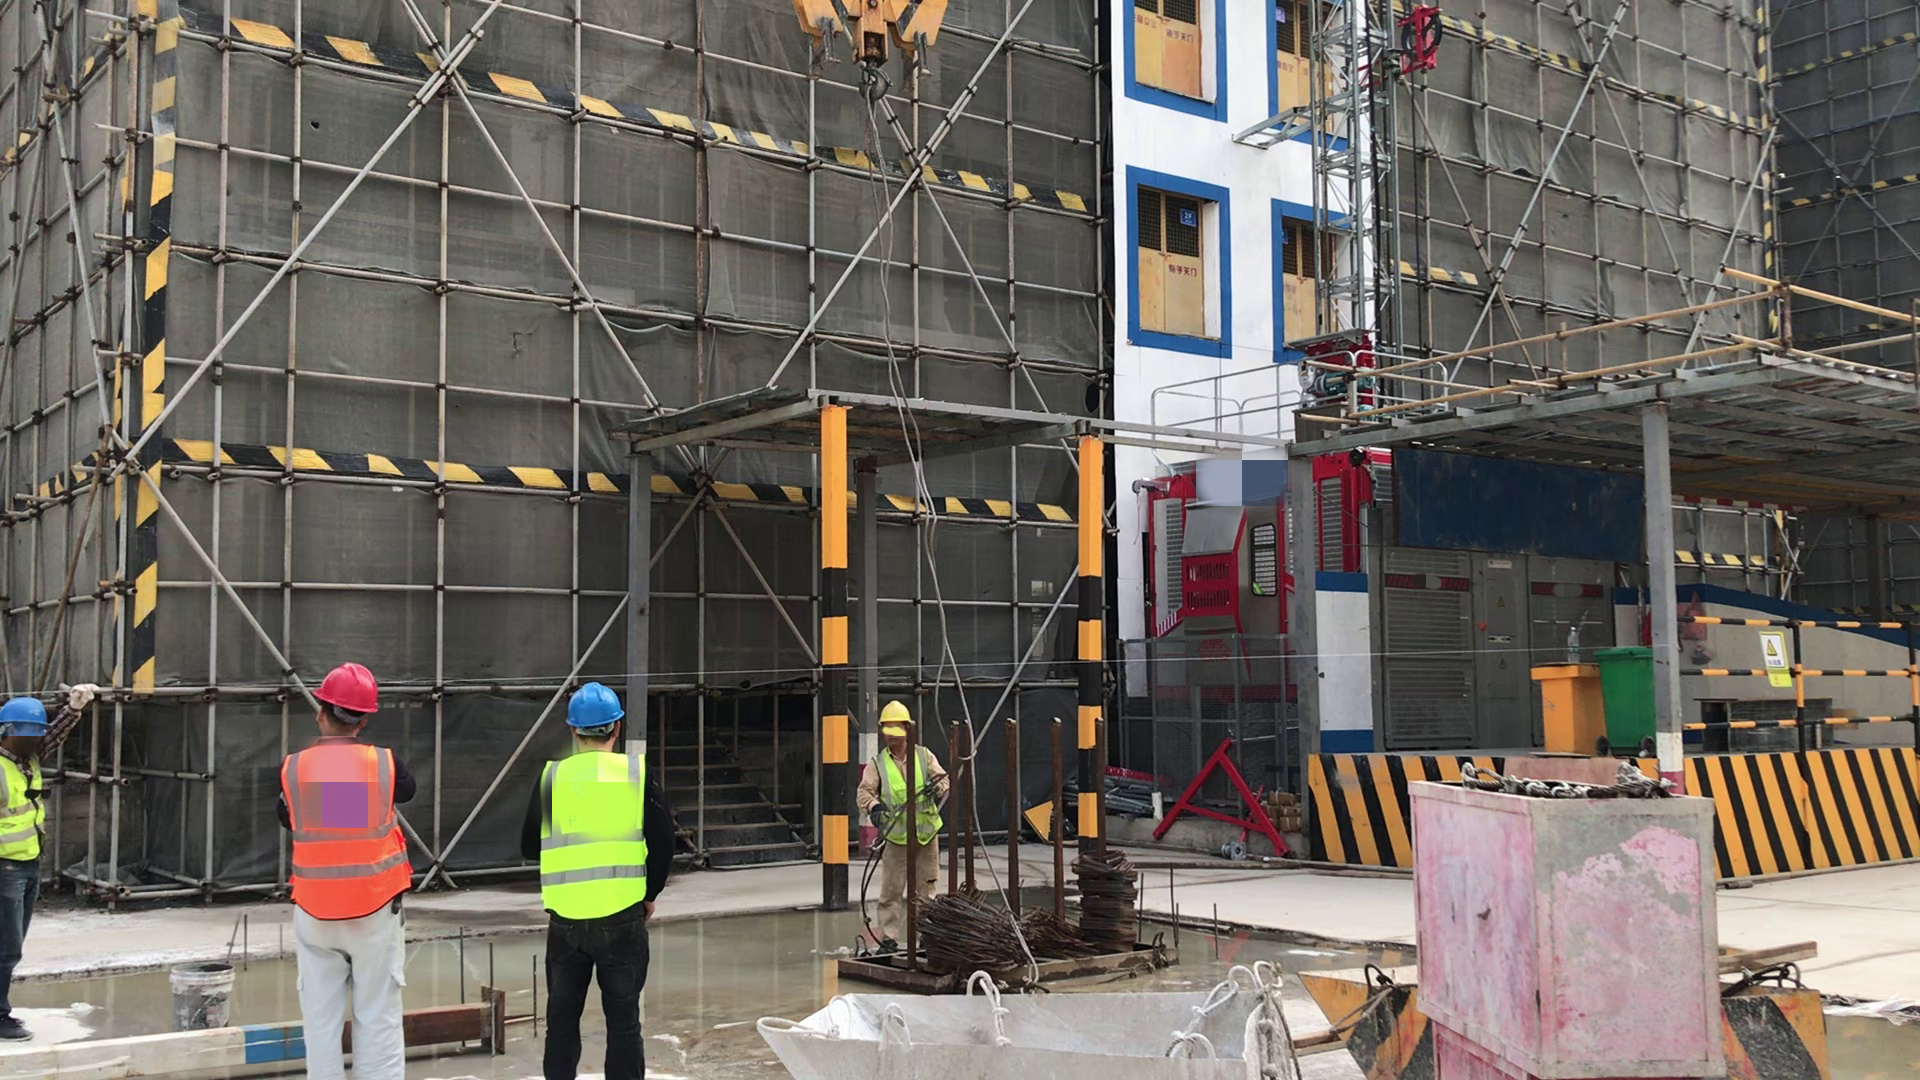helmet: (317, 662, 381, 712), (565, 682, 626, 725), (11, 701, 50, 728), (876, 701, 907, 730)
hook: (785, 1, 957, 102)
hopper: (754, 975, 1281, 1076)
person: (271, 663, 418, 1080), (534, 683, 676, 1080), (849, 700, 954, 946), (1, 700, 58, 1041)
slogan: (1759, 630, 1799, 688)
vest: (279, 746, 419, 922), (540, 749, 649, 924), (872, 751, 944, 841), (5, 756, 52, 872)
